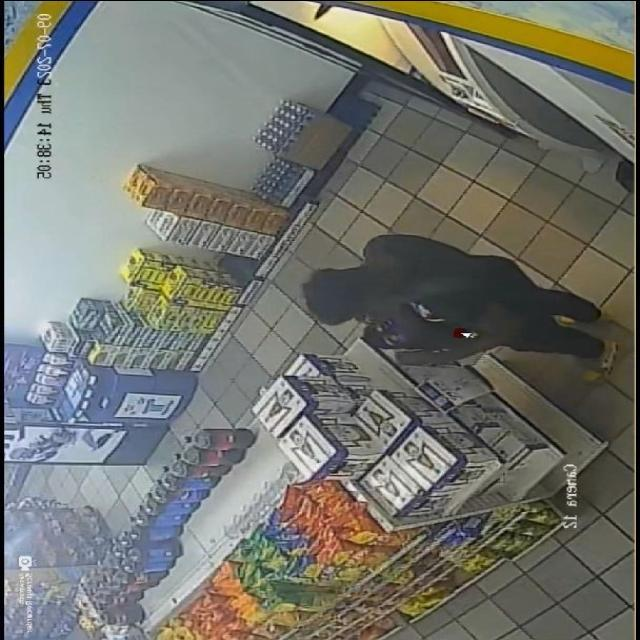Shoplifting: (244, 207, 607, 393)
